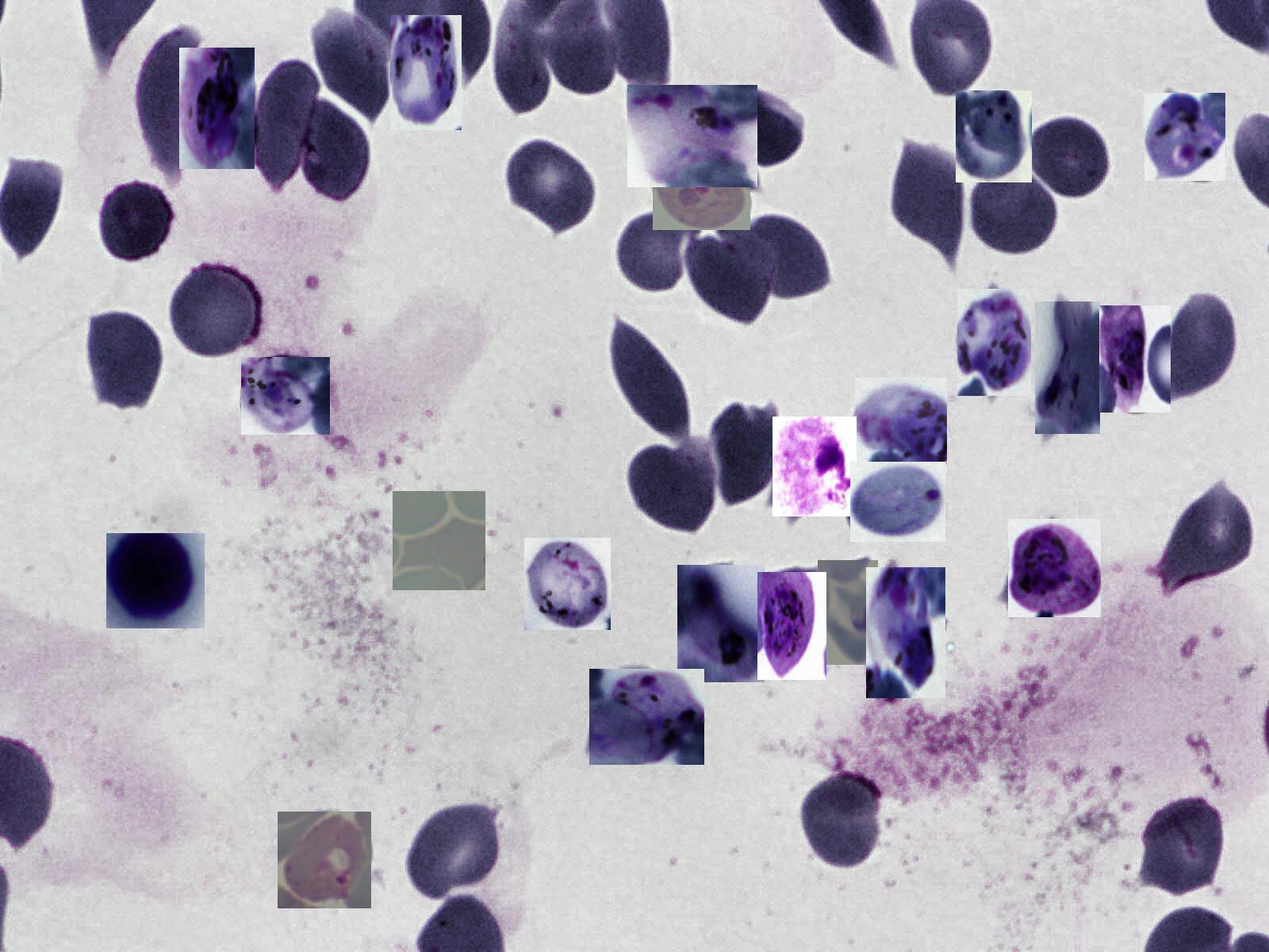Infected: (627, 85, 757, 187), (590, 669, 705, 765), (866, 567, 945, 698), (677, 565, 765, 682), (106, 533, 205, 628), (179, 48, 255, 169), (1008, 519, 1101, 617), (393, 491, 485, 590), (278, 812, 371, 908), (855, 378, 947, 473), (1035, 301, 1100, 434), (773, 416, 857, 516), (390, 15, 462, 130), (524, 538, 611, 630), (957, 289, 1031, 396), (1099, 305, 1171, 413), (850, 462, 945, 542), (757, 572, 826, 680), (653, 155, 750, 230), (1144, 93, 1225, 181), (956, 90, 1032, 182), (241, 357, 330, 435), (818, 560, 878, 665)
Uninfected: (611, 313, 689, 443), (1157, 490, 1256, 591), (82, 302, 167, 417), (163, 266, 264, 361), (133, 28, 195, 181), (895, 140, 968, 269), (968, 162, 1063, 259), (313, 13, 393, 125), (1138, 797, 1227, 896), (502, 138, 593, 234), (408, 803, 501, 896), (255, 60, 321, 190), (706, 399, 781, 513), (628, 439, 715, 536), (293, 102, 372, 207), (800, 771, 884, 869), (707, 89, 803, 170), (685, 225, 766, 321), (1027, 114, 1112, 202), (742, 212, 829, 297), (1166, 292, 1237, 392), (617, 207, 696, 296), (97, 185, 179, 259)
